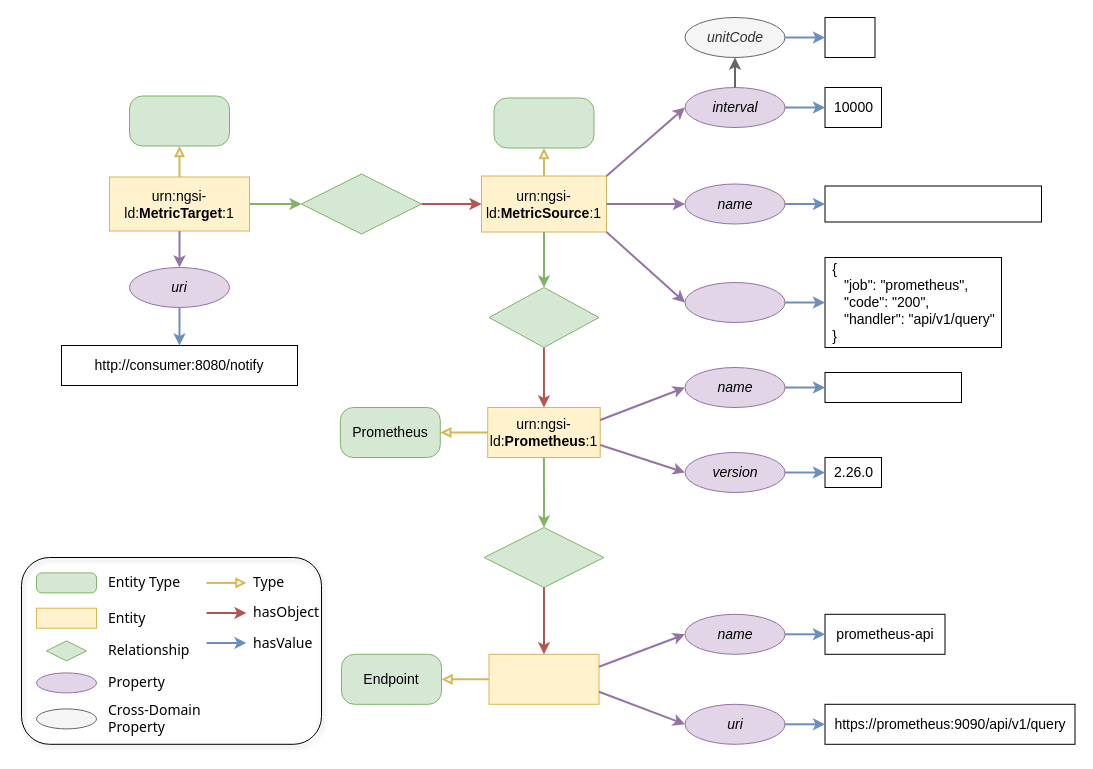
This 1093x769 diagram has some shape labels left out. The shapes that lost their labels are listed below. From the top down, each one's centre as x and y in pixels, then its label:
At (849,37): "C26".
At (179,120): "MetricTarget".
At (543,122): "MetricSource".
At (361,203): "hasInput".
At (933,203): "prometheus_http_requests_total".
At (543,317): "collectsFrom".
At (734,302): "expression".
At (893,387): "prometheus-server".
At (543,557): "hasEndpoint".
At (543,678): "urn:ngsi-ld: Endpoint :1".
